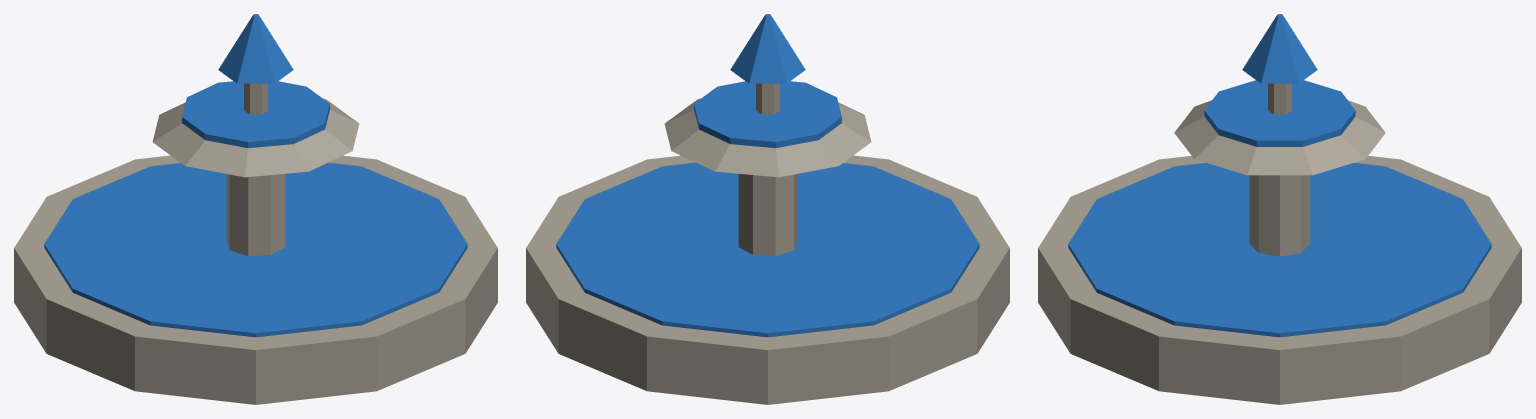
Rendered from fountain.glb.
3 views of the same model, side by side, from view 1: azimuth 30°, elevation 25°; view 2: azimuth 150°, elevation 25°; view 3: azimuth 270°, elevation 25° (orthographic).
Visible parts, largest first — view 1: fountain; view 2: fountain; view 3: fountain.
Part boxes in pixels (box(x1,y1,x2,y2)): fountain: box(14, 14, 497, 404); fountain: box(526, 14, 1009, 404); fountain: box(1038, 14, 1521, 404).
Size of the model in its own units: 3.2 by 2.1 by 3.2.
